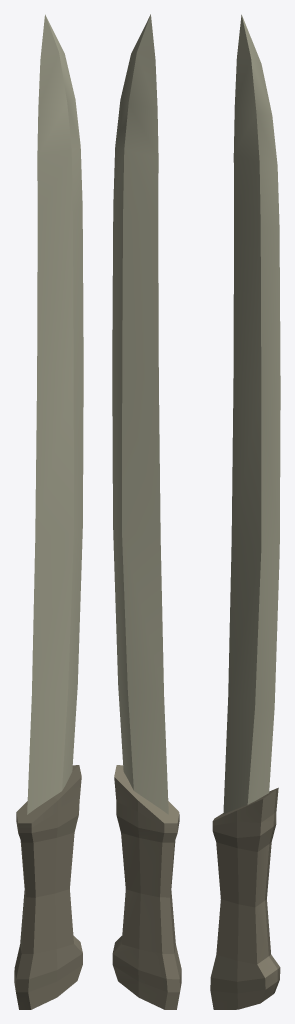
Rendered from Sword_Armor_5_.fbx.
The picture shows the model from 3 angles, left to right: view 1: azimuth 30°, elevation 25°; view 2: azimuth 150°, elevation 25°; view 3: azimuth 330°, elevation 25°; orthographic projection.
Parts seen in each view (by area): view 1: Sword 1.003; view 2: Sword 1.003; view 3: Sword 1.003.
Part boxes in pixels (x1=…): Sword 1.003: x1=14, y1=14, x2=83, y2=1009; Sword 1.003: x1=112, y1=14, x2=181, y2=1009; Sword 1.003: x1=210, y1=14, x2=280, y2=1009.
Bounding box in the file's own units: 10.08 × 141 × 4.5.
